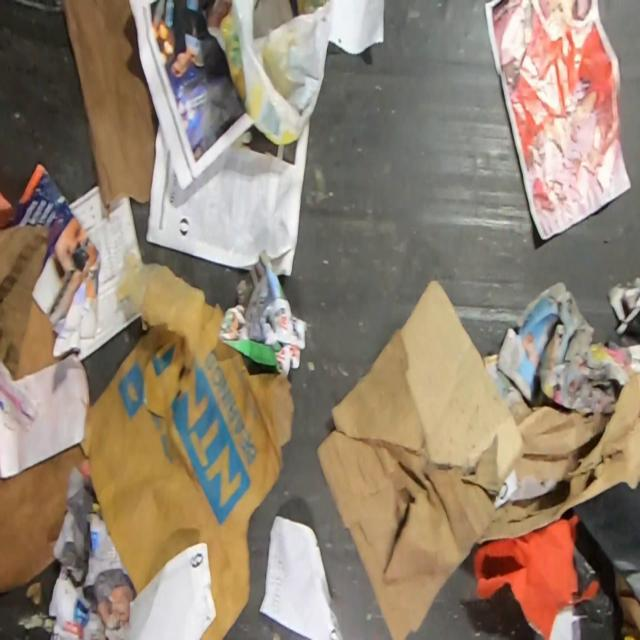cardboard: (314, 278, 640, 638), (81, 250, 294, 639), (61, 0, 158, 209), (0, 442, 91, 591), (0, 221, 65, 380)
soft_plastic: (205, 0, 332, 147)
